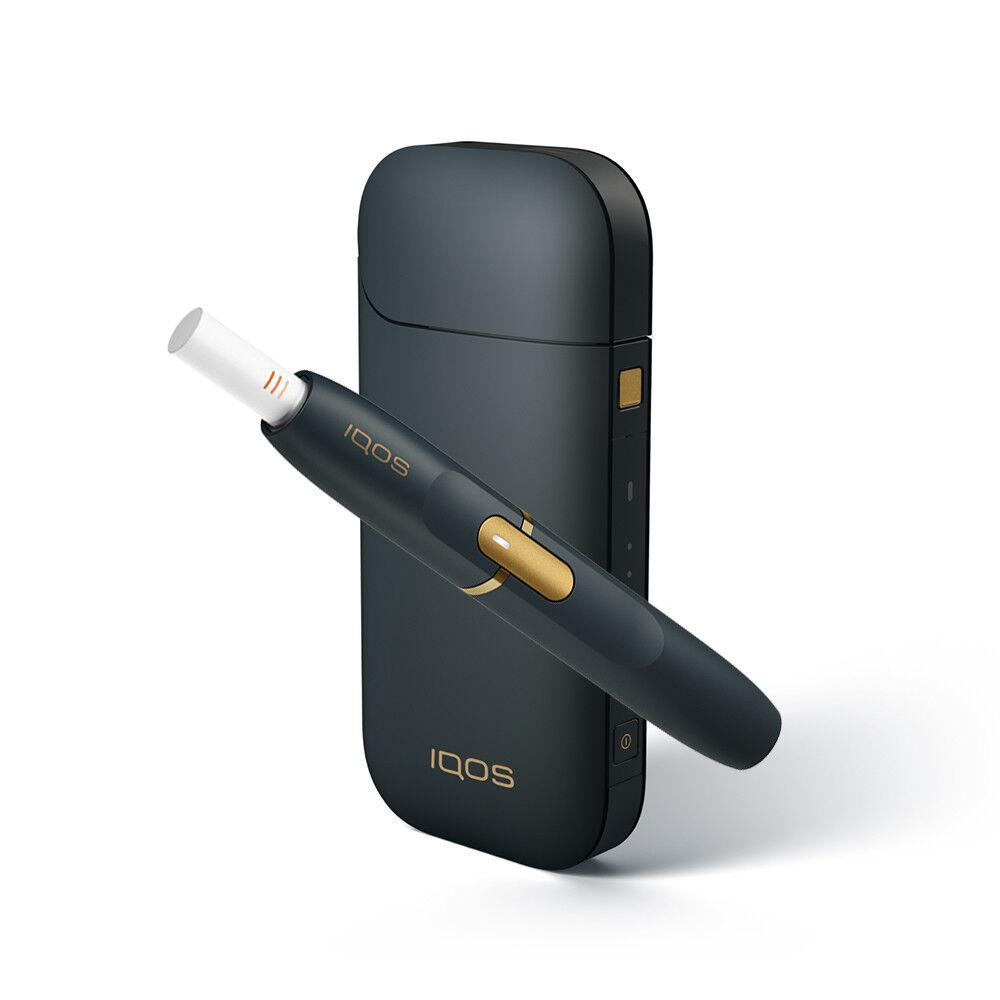iqos: (169, 308, 779, 767)
